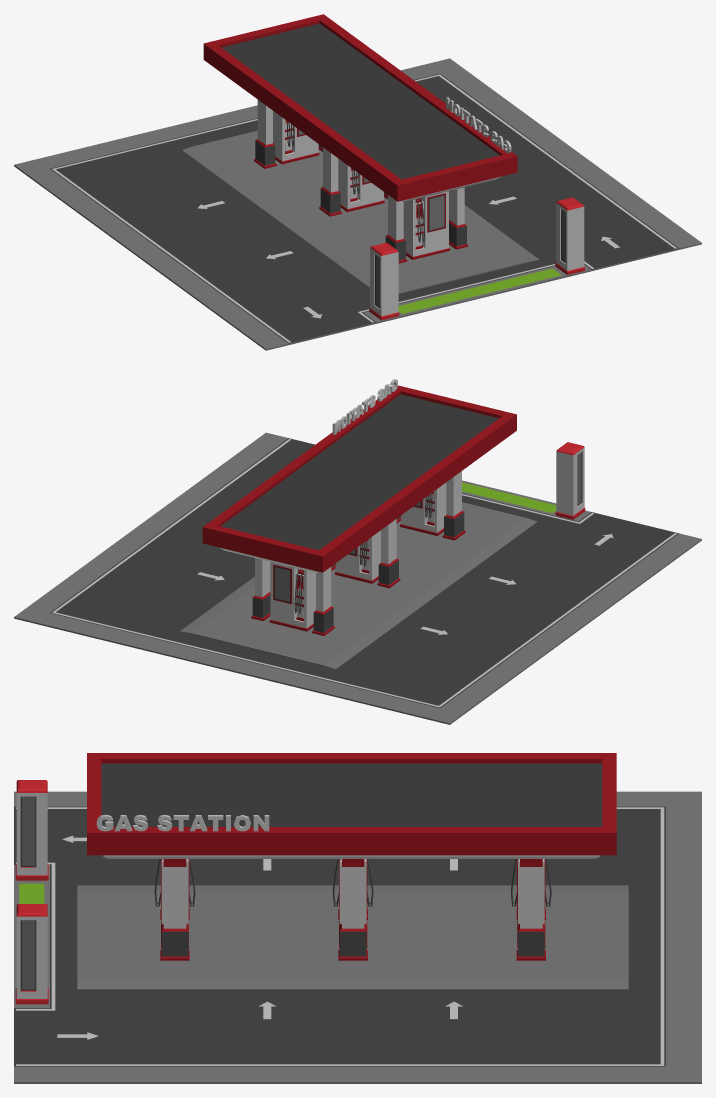
Rendered from petrol-station.glb.
The picture shows the model from 3 angles, top to bottom: view 1: azimuth 30°, elevation 25°; view 2: azimuth 150°, elevation 25°; view 3: azimuth 270°, elevation 25°; orthographic projection. The views are drawn at different scales.
Visible parts, largest first — view 1: gasstation_b; view 2: gasstation_b; view 3: gasstation_b.
Boxes of the visible parts, x1,y1,x2,y2 form: gasstation_b: [14, 14, 701, 350]; gasstation_b: [14, 379, 701, 724]; gasstation_b: [14, 753, 701, 1083].
Bounding box in the file's own units: 29.96 × 7.75 × 30.
1 material, 1 textured.
